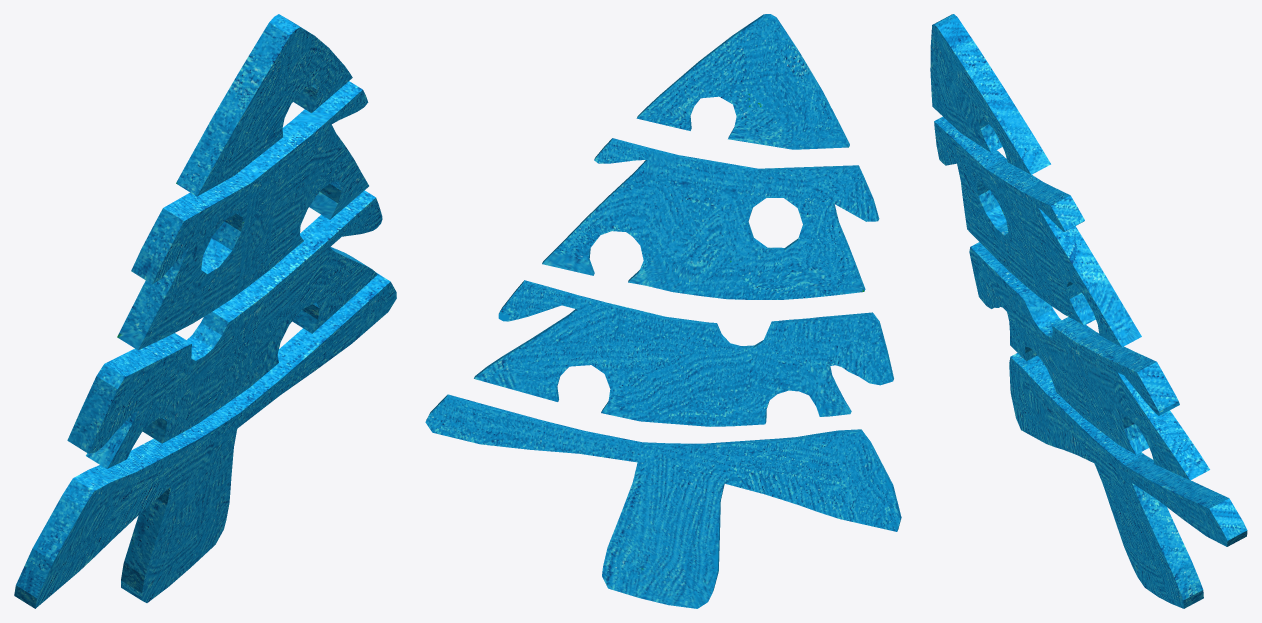
The model's file is asset.glb.
3 views of the same model, side by side, from view 1: azimuth 30°, elevation 25°; view 2: azimuth 150°, elevation 25°; view 3: azimuth 270°, elevation 25° (orthographic). The views are drawn at different scales.
Parts seen in each view (by area): view 1: node_id4; view 2: node_id4; view 3: node_id4.
Part boxes in pixels (<box>): node_id4: <box>14,14,396,608</box>; node_id4: <box>425,14,901,608</box>; node_id4: <box>930,14,1247,608</box>.
Size of the model in its own units: 0.00381 by 0.00491 by 0.00243.
1 material, 1 textured.
